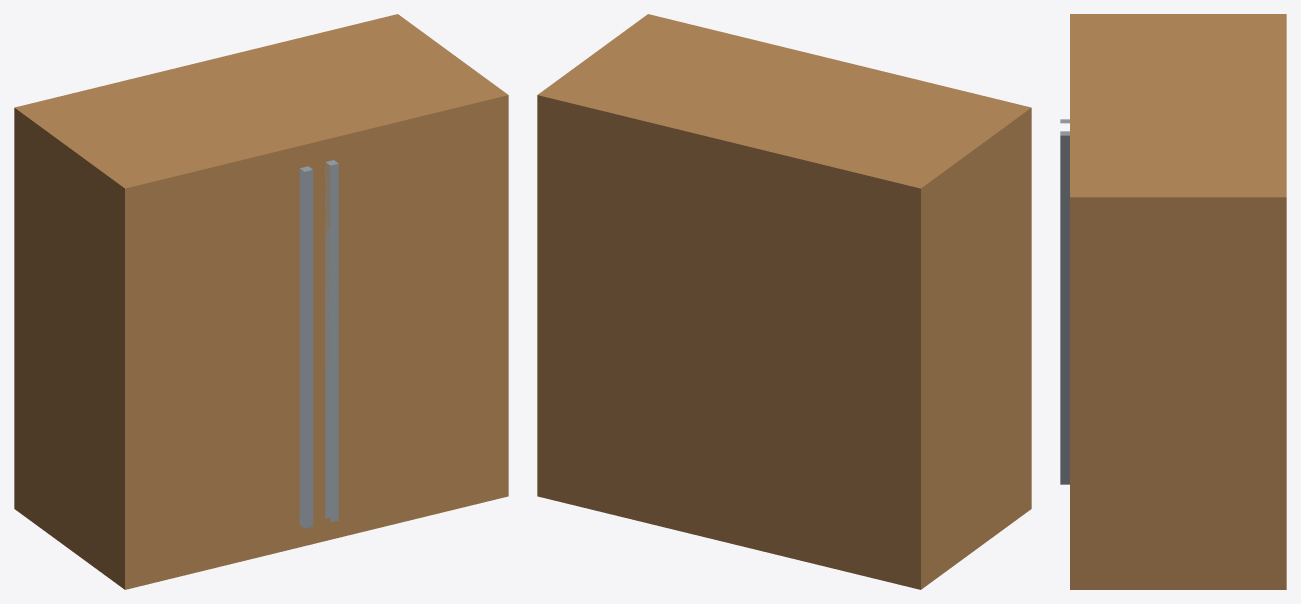
Rendered from cabinet.glb.
3 views of the same model, side by side, from view 1: azimuth 30°, elevation 25°; view 2: azimuth 150°, elevation 25°; view 3: azimuth 270°, elevation 25° (orthographic). The views are drawn at different scales.
Bounding box in the file's own units: 0.9 × 0.9 × 0.47.
